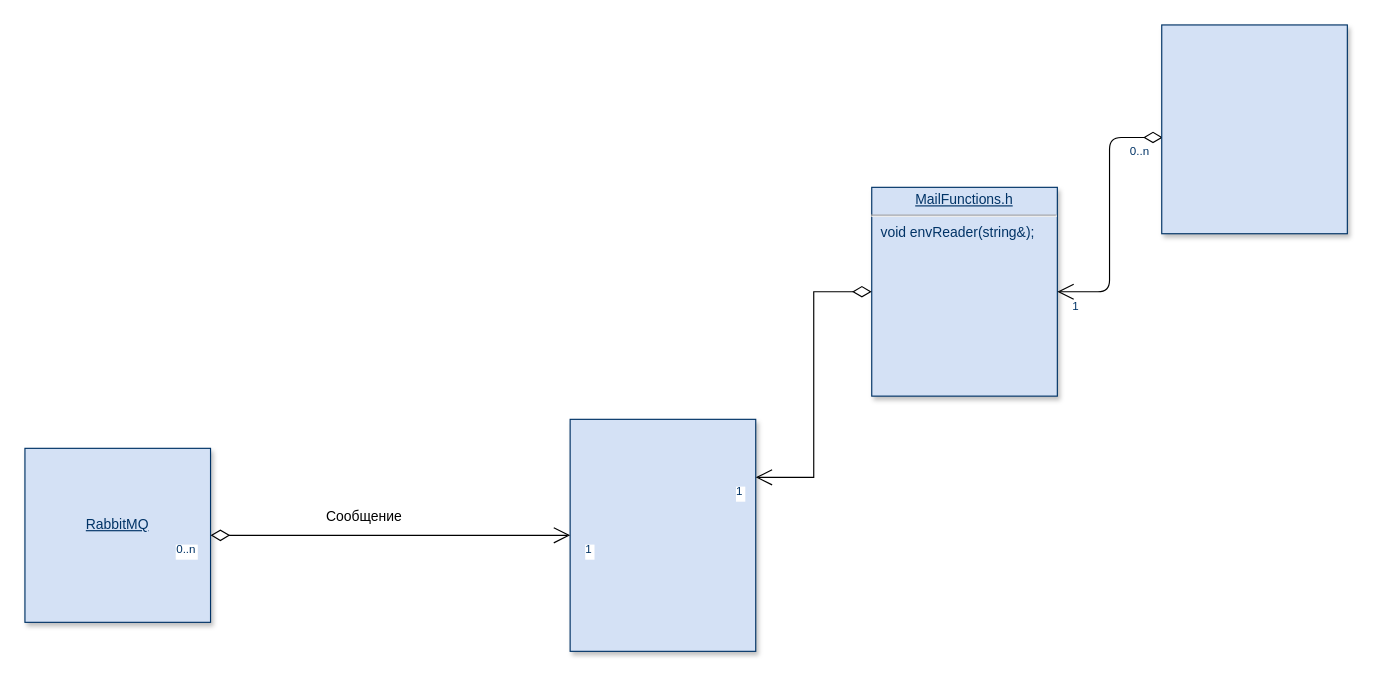
Image size: 1375x680. Some labels were removed from this diagram. Each missing label, with the centre of its shape:
"MailProject.cpp Основной файл Содержит main()" goes at point 663,536.
"MyFunctions.h void envReader(string&);" goes at point 1255,130.
